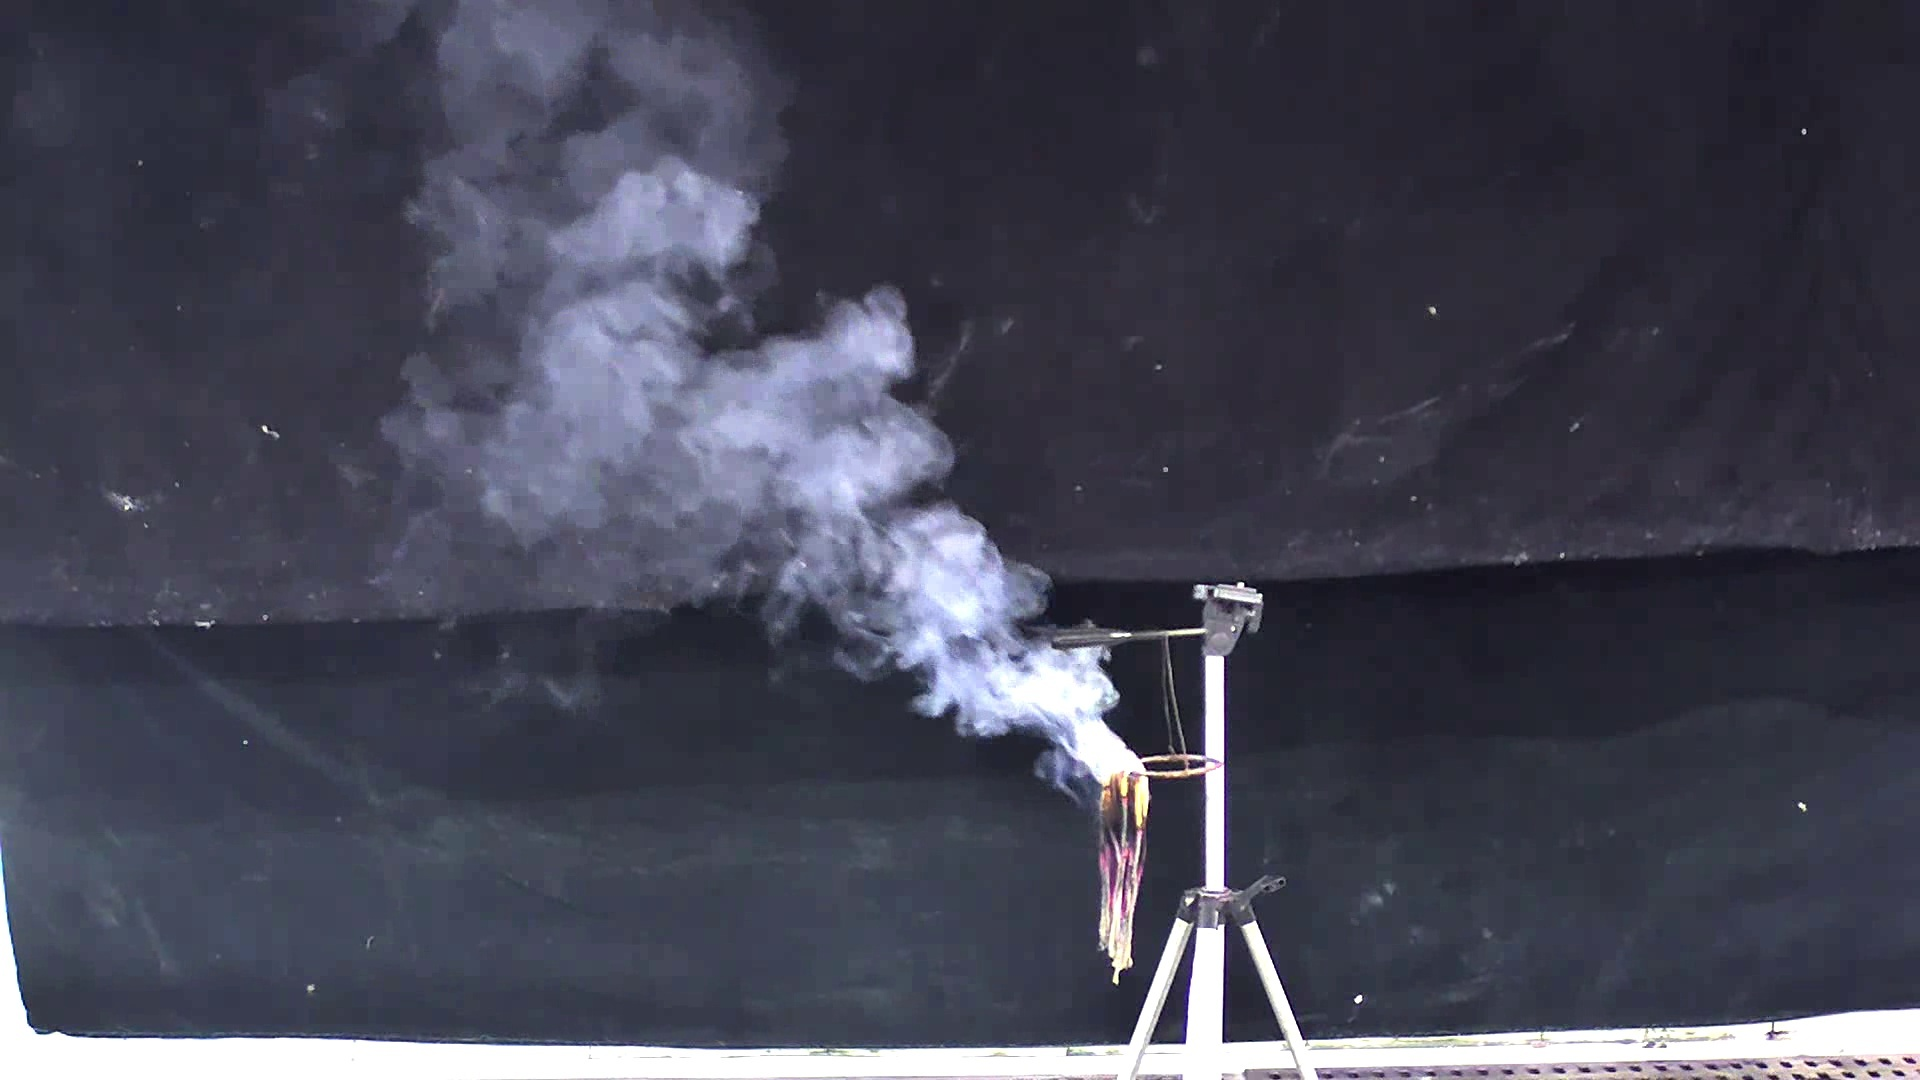smoke: (363, 88, 1154, 785)
